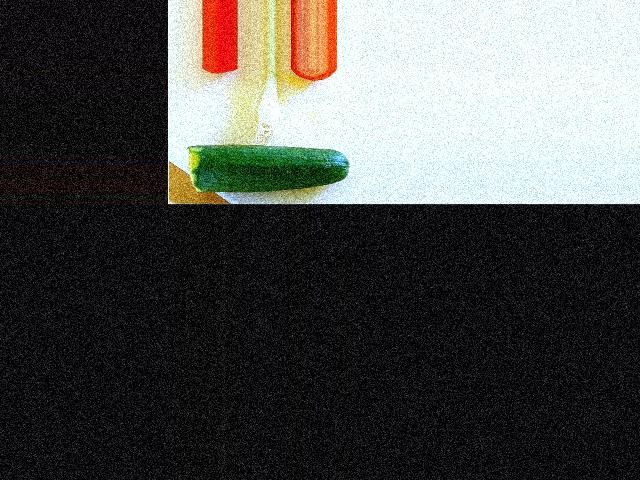cucumber: (187, 145, 350, 193)
